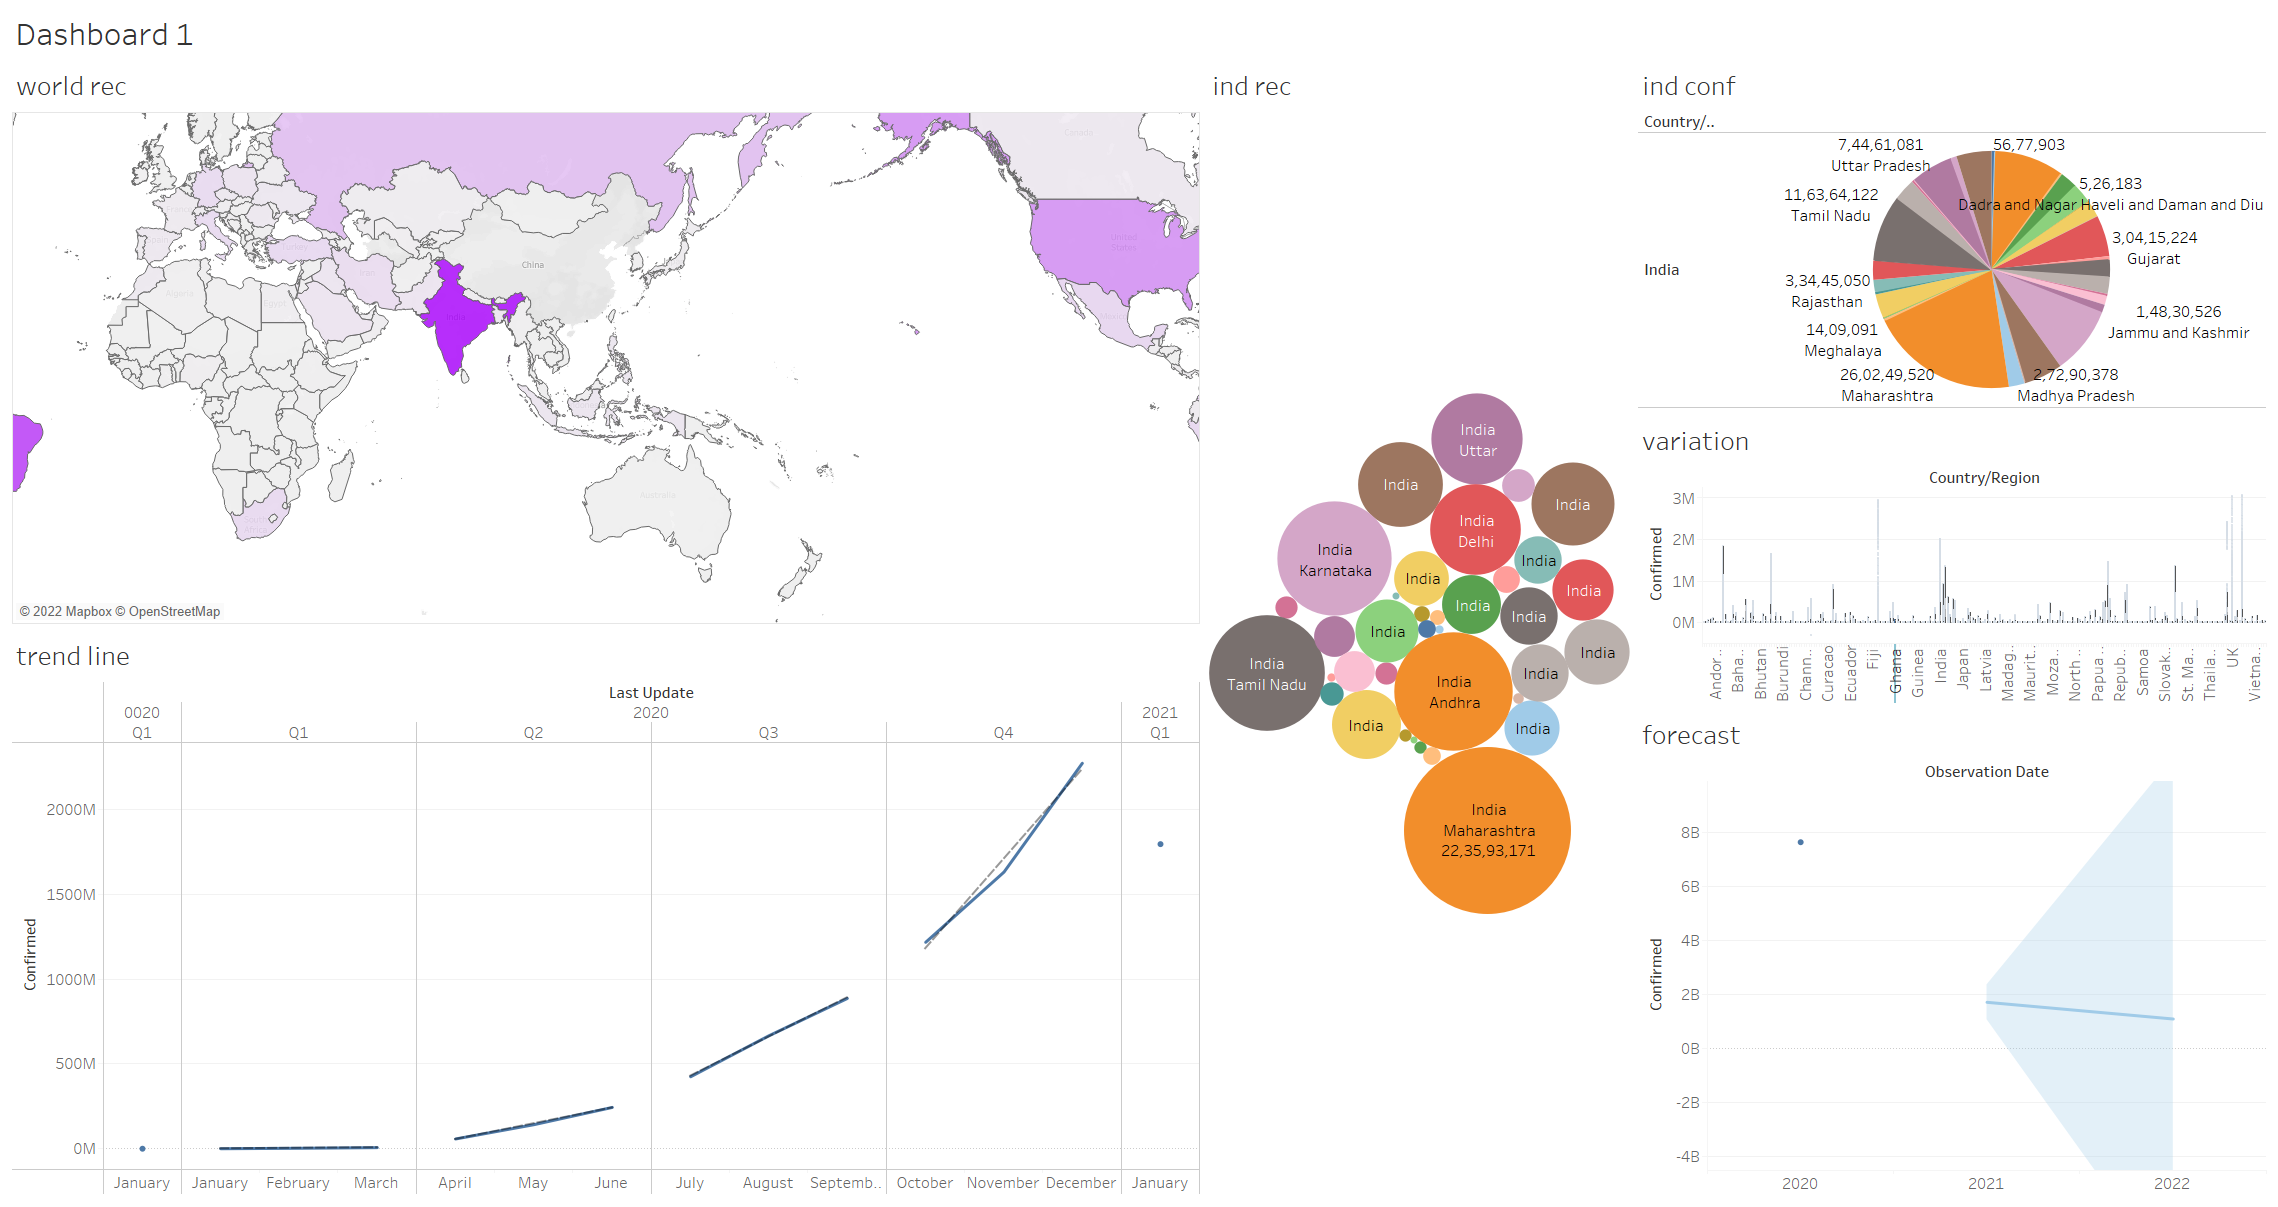

What the dashboard file says about the page in this screenshot:
{"tool":"tableau","page":{"name":"Dashboard 1","canvas":[1000,1000],"units":"permille","ordinal":0},"visuals":[{"type":"title","box":[3.5,6.6,993,41.4]},{"type":"worksheet","title":"world rec","mark":"Automatic","box":[3.5,48.1,525,472.6]},{"type":"worksheet","title":"ind rec","mark":"Circle","box":[528.5,48.1,188.8,945.3]},{"type":"worksheet","title":"ind conf ","mark":"Pie","rows":["Country/Region"],"box":[717.3,48.1,279.2,294.1]},{"type":"worksheet","title":"variation","mark":"Circle","rows":["Confirmed"],"cols":["Country/Region"],"box":[717.3,342.2,279.2,243.6]},{"type":"worksheet","title":"trend line","mark":"Line","rows":["Confirmed"],"cols":["Last Update","Last Update","Last Update"],"box":[3.5,520.6,525,472.7]},{"type":"worksheet","title":"forecast","mark":"Automatic","rows":["Confirmed"],"cols":["ObservationDate"],"box":[717.3,585.7,279.2,407.6]}]}

Visuals, with their boxes on the dashboard's canvas, which has no fixed pixel size, in thousandths of its width and height (x1, y1, x2, y2). These are canvas units, not pixel positions in the 2278x1207 screenshot, which may show the page scaled, cropped or inside an application window:
title: BBox(4, 7, 996, 48)
"world rec" worksheet: BBox(4, 48, 528, 521)
"ind rec" worksheet (Circle marks): BBox(528, 48, 717, 993)
"ind conf " worksheet (Pie marks): BBox(717, 48, 996, 342)
"variation" worksheet (Circle marks): BBox(717, 342, 996, 586)
"trend line" worksheet (Line marks): BBox(4, 521, 528, 993)
"forecast" worksheet: BBox(717, 586, 996, 993)
